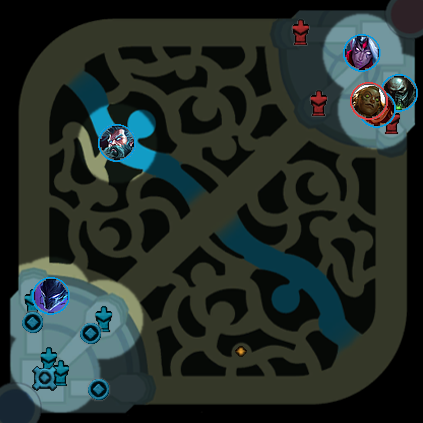Illaoi: (350, 82, 388, 120)
Nocturne: (32, 277, 70, 315)
Taliyah: (358, 90, 396, 128)
Urgot: (380, 74, 418, 112)
Varus: (343, 34, 381, 72)
Zilean: (98, 124, 136, 162)
